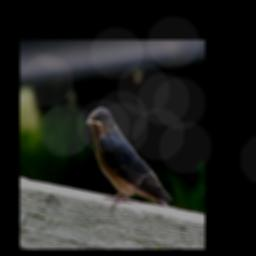Swallow: (86, 106, 173, 213)
